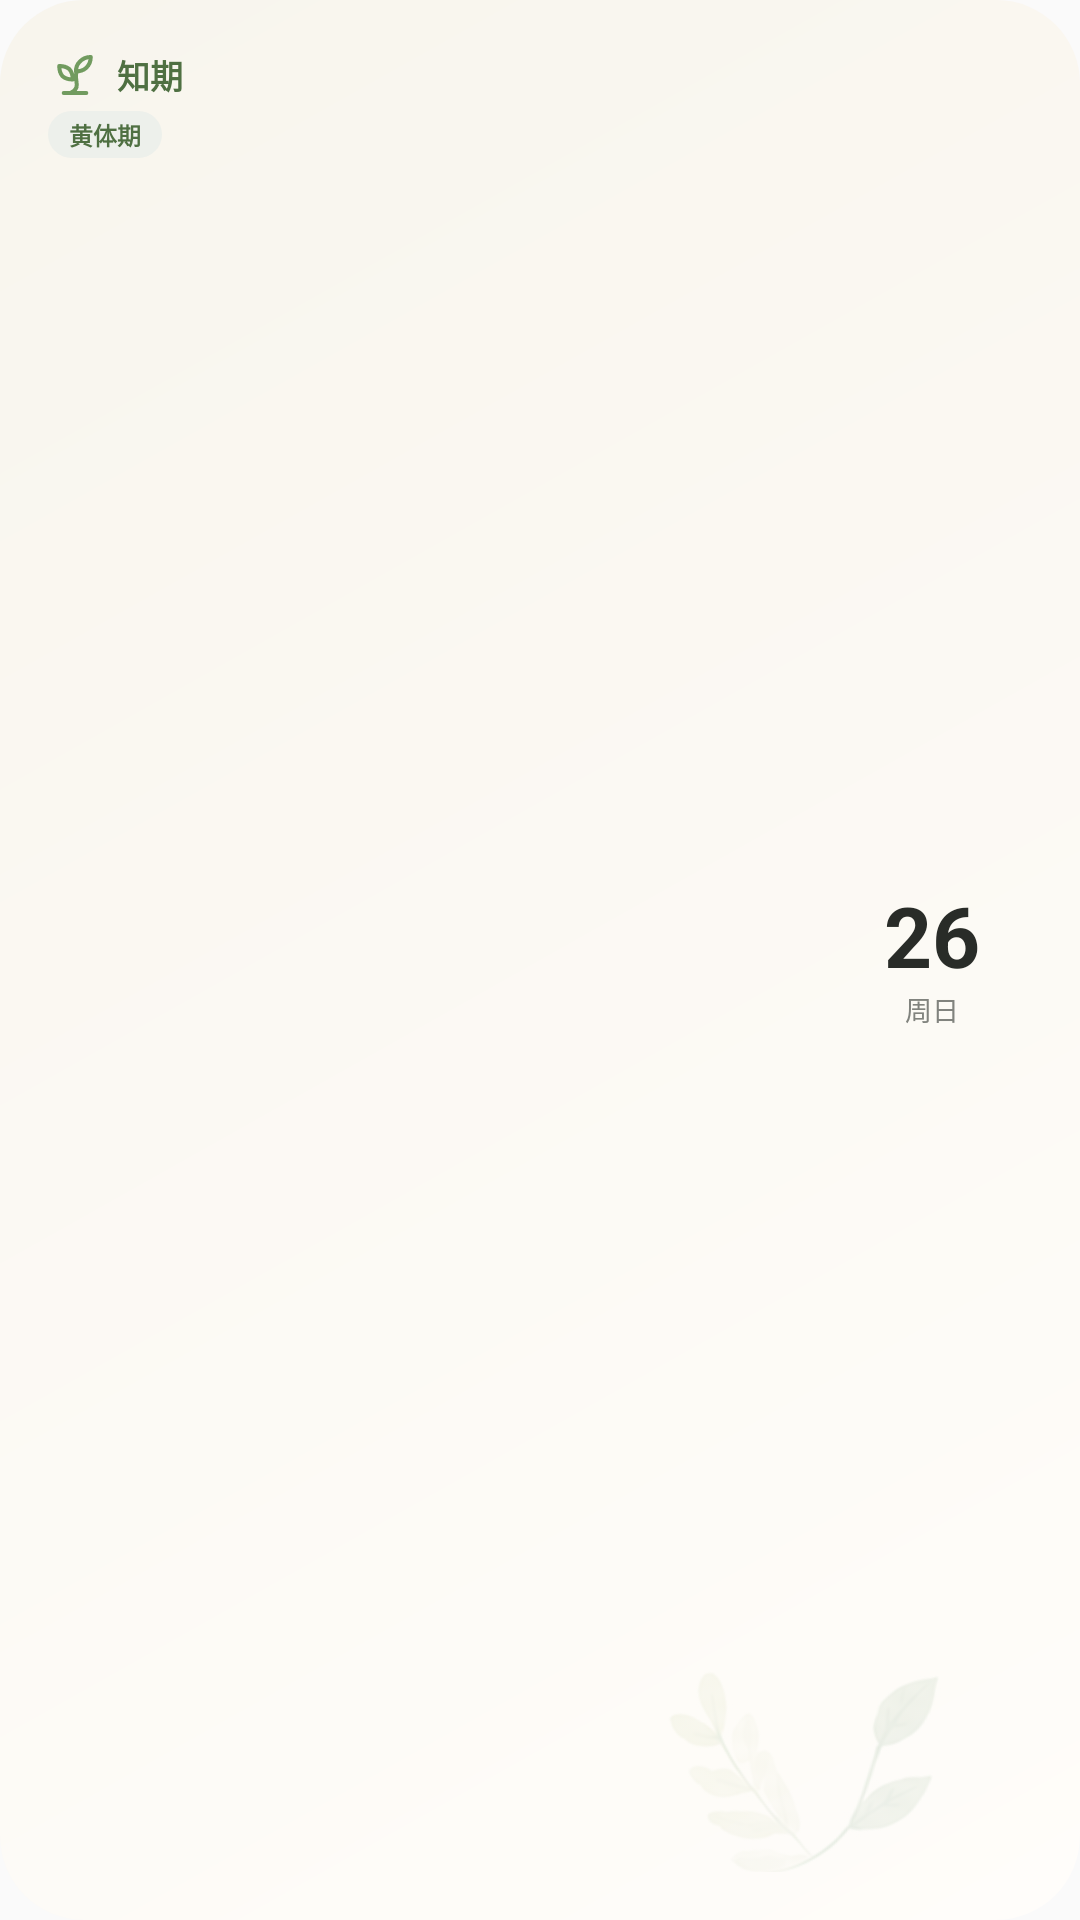

Where icons sit on this 1080×1920 app screen, as bbox(x1, y1, x2, y2):
widget sprout: bbox(57, 55, 93, 95)
